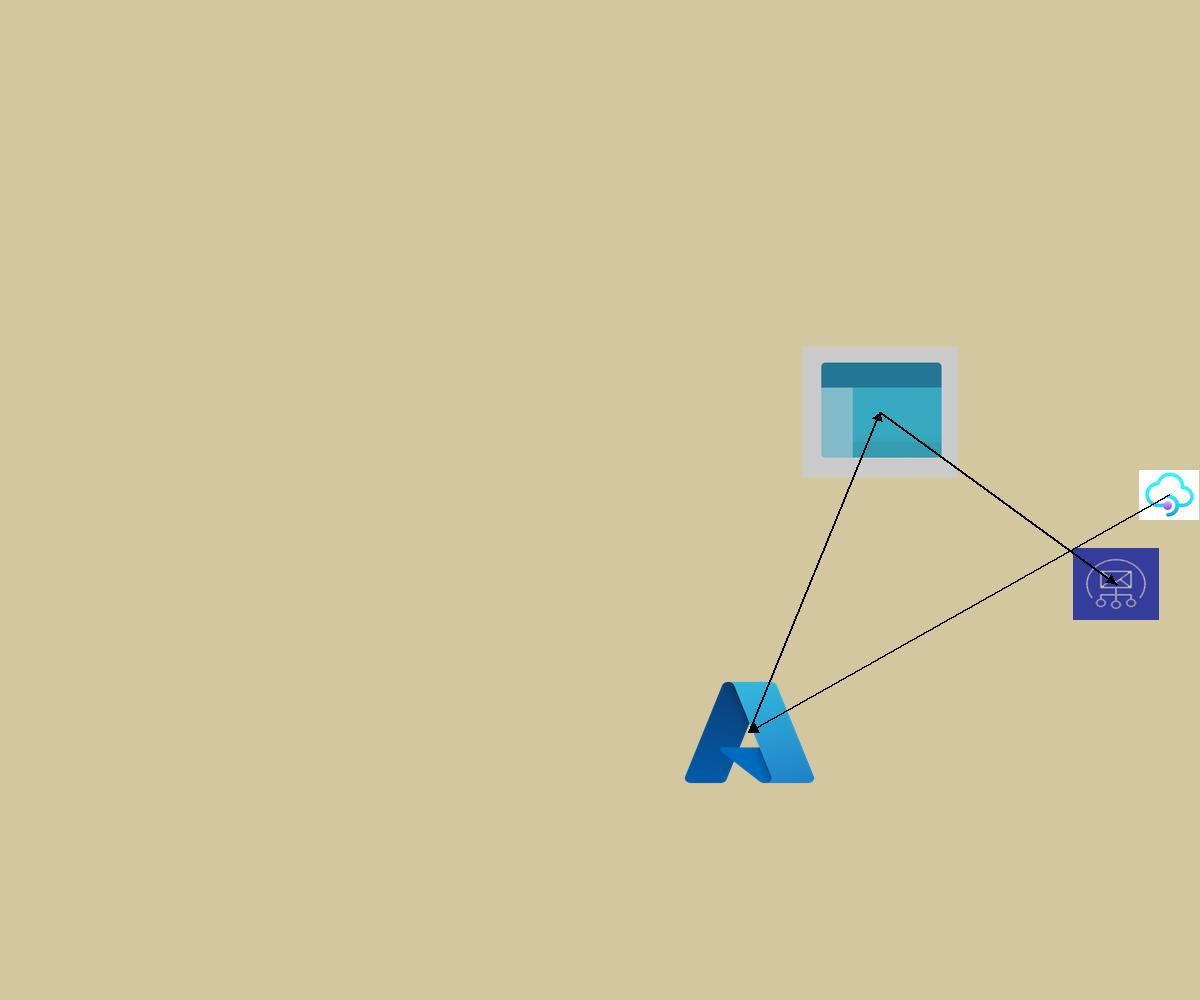AWS-Simple-Email-Service: (1073, 548, 1159, 620)
Azure_api_gateway: (1139, 470, 1199, 520)
Azure_management-portal: (802, 347, 958, 477)
Azure_services: (679, 674, 820, 791)
